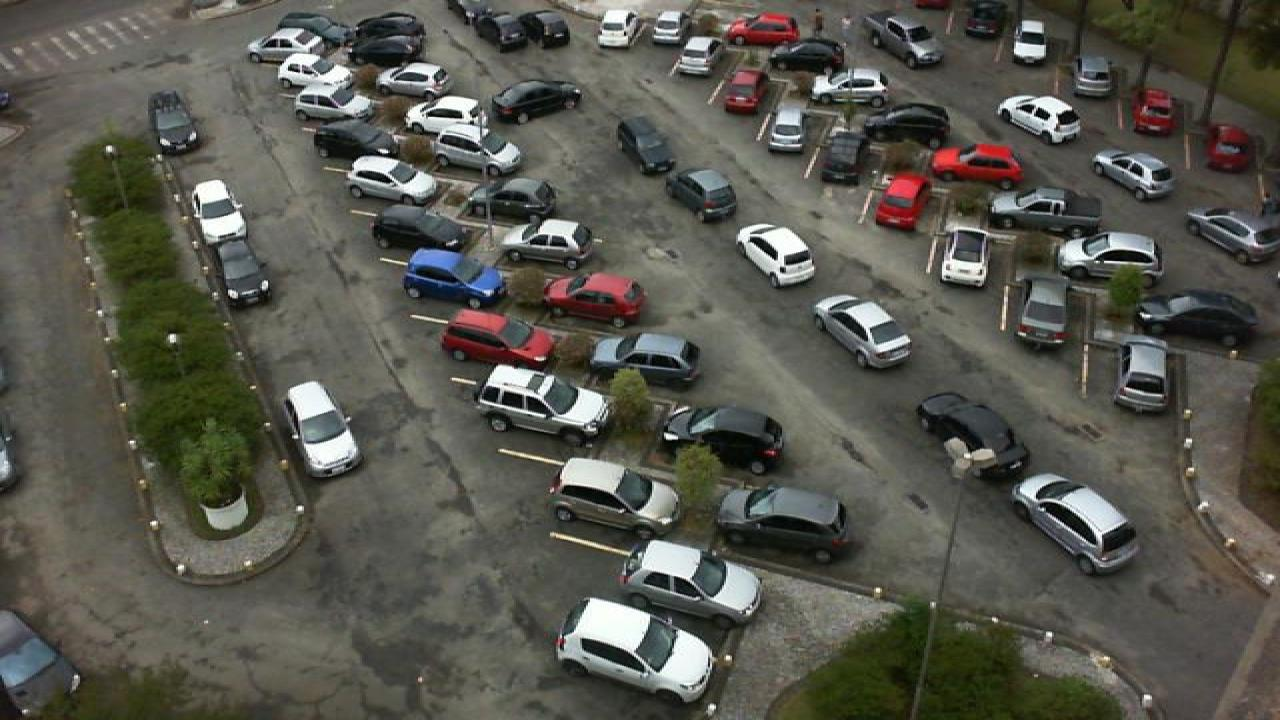Car: (552, 595, 718, 707), (612, 538, 766, 631), (1008, 470, 1140, 575), (546, 454, 686, 539), (474, 361, 614, 442), (716, 481, 852, 562), (912, 390, 1030, 480), (660, 404, 786, 476), (0, 607, 80, 720), (808, 292, 914, 372), (284, 379, 362, 478), (436, 307, 558, 367), (398, 246, 506, 313), (1140, 290, 1262, 348), (586, 331, 704, 389), (540, 269, 648, 327), (1056, 229, 1164, 287), (734, 220, 818, 288), (1184, 206, 1280, 265), (340, 153, 444, 206), (988, 187, 1104, 234), (494, 216, 594, 270), (424, 126, 524, 179), (366, 207, 466, 258), (1112, 334, 1174, 416), (860, 10, 944, 70), (996, 92, 1084, 146), (488, 78, 586, 126), (926, 140, 1026, 186), (1010, 277, 1072, 351), (212, 235, 272, 308), (470, 174, 556, 223), (666, 166, 740, 222), (1092, 150, 1176, 199), (860, 100, 954, 142), (190, 178, 248, 246), (870, 171, 932, 234), (310, 118, 394, 164), (934, 223, 992, 289), (614, 116, 678, 174), (148, 89, 202, 156), (402, 95, 492, 135), (290, 82, 374, 124), (810, 65, 892, 107), (272, 51, 352, 91), (244, 26, 328, 64), (816, 127, 868, 188), (766, 36, 846, 73), (372, 60, 454, 96), (724, 10, 802, 47), (346, 11, 428, 45), (342, 34, 426, 66), (1206, 121, 1254, 174), (720, 67, 770, 117), (1130, 86, 1176, 136), (670, 36, 724, 78), (282, 10, 352, 42), (1068, 54, 1116, 99), (764, 102, 806, 153), (1010, 20, 1052, 66), (526, 8, 570, 50), (488, 4, 530, 48), (594, 9, 640, 49), (964, 0, 1008, 39), (644, 10, 688, 46), (450, 0, 490, 25)
